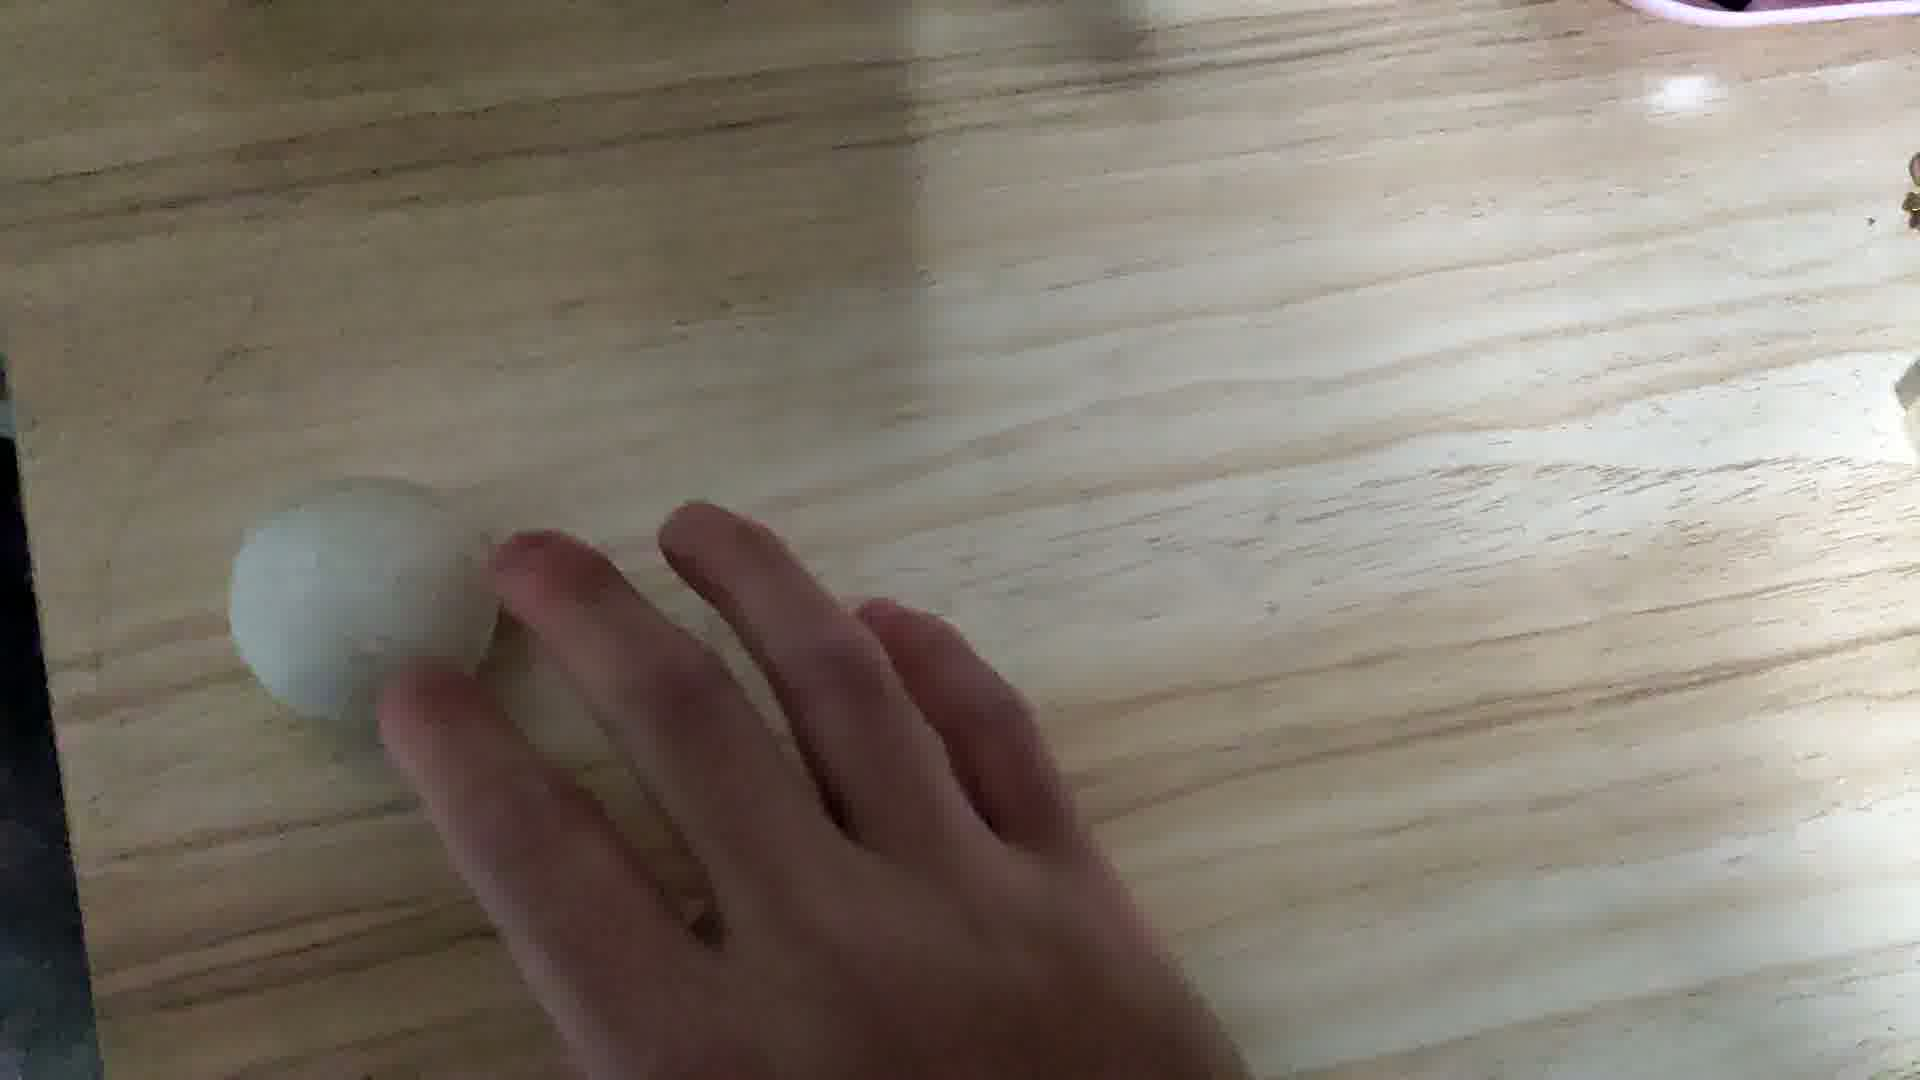Ball: (229, 479, 496, 724)
